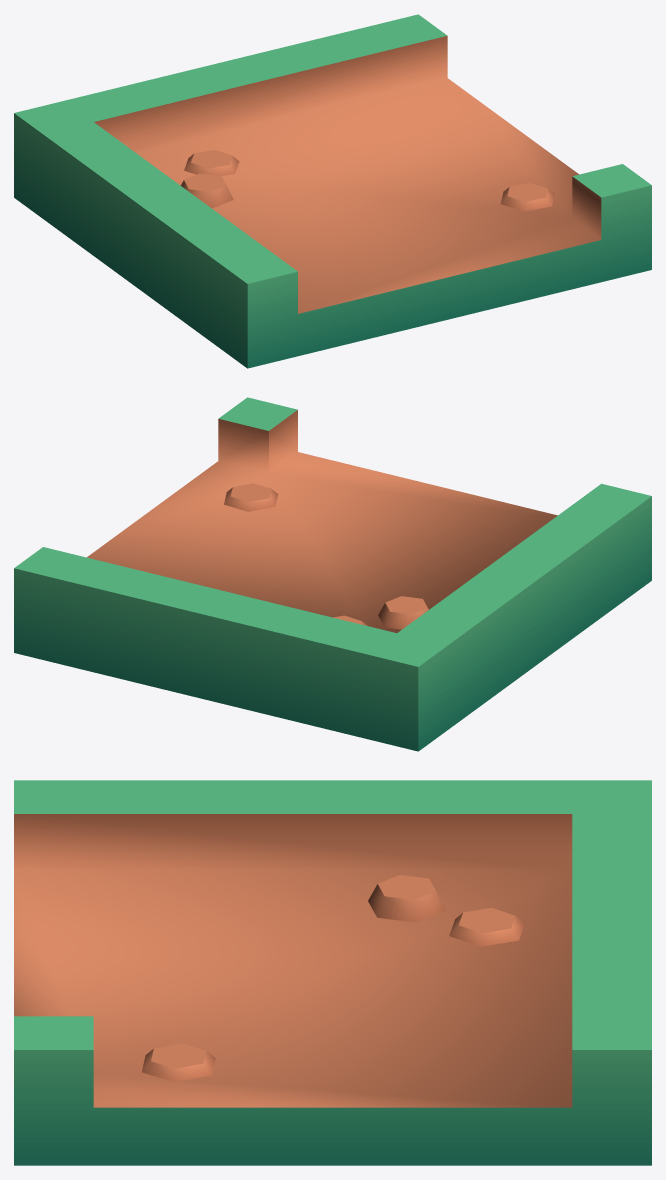
The model's file is tile-corner-square.fbx.
The picture shows the model from 3 angles, top to bottom: view 1: azimuth 30°, elevation 25°; view 2: azimuth 150°, elevation 25°; view 3: azimuth 270°, elevation 25°; orthographic projection. The views are drawn at different scales.
Parts seen in each view (by area): view 1: tile-corner-square; view 2: tile-corner-square; view 3: tile-corner-square.
Boxes of the visible parts, x1,y1,x2,y2 form: tile-corner-square: (14, 14, 651, 368); tile-corner-square: (14, 397, 651, 751); tile-corner-square: (14, 780, 651, 1165).
Bounding box in the file's own units: 100 × 20 × 100.
